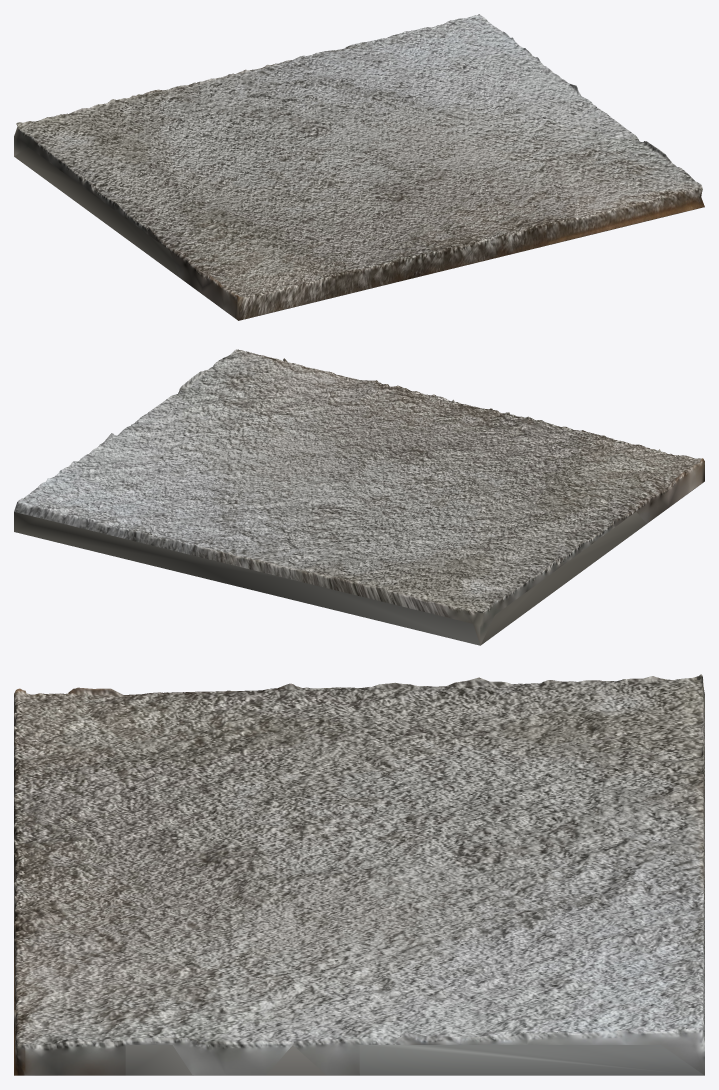
Rendered from carpet.glb.
3 views of the same model, one above another, from view 1: azimuth 30°, elevation 25°; view 2: azimuth 150°, elevation 25°; view 3: azimuth 270°, elevation 25° (orthographic). The views are drawn at different scales.
Visible parts, largest first — view 1: model; view 2: model; view 3: model.
Boxes of the visible parts, <box> form: model: <box>14,14,704,320</box>; model: <box>14,349,704,645</box>; model: <box>14,674,704,1075</box>.
Size of the model in its own units: 1.68 by 0.1171 by 1.4.
1 material, 1 textured.
